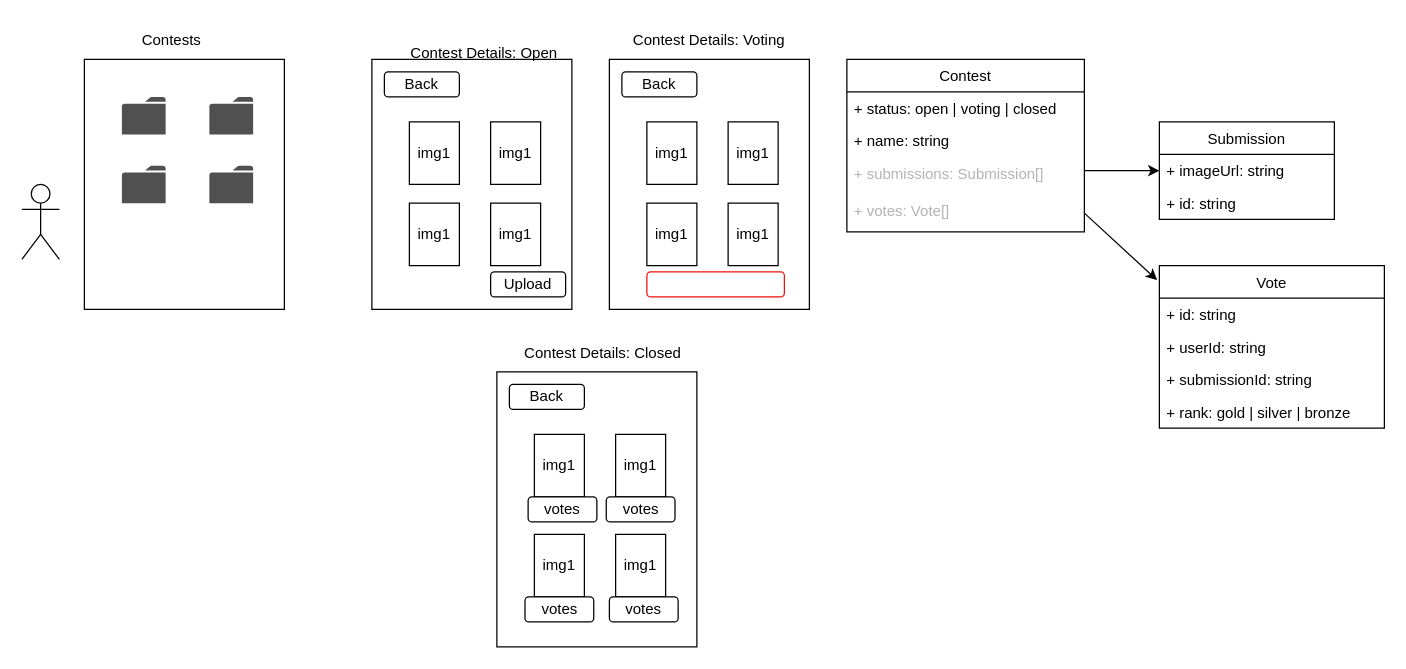
The diagram is 1406 pixels wide and 669 high, and some of its shapes have lost their labels. Each missing label, with the centre of its shape:
Actor: the point at 40,221
VotePanel: the point at 715,284
